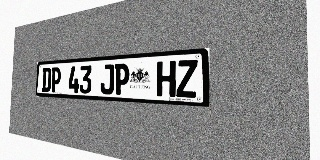3: (79, 65, 92, 94)
4: (68, 66, 80, 93)
D: (42, 68, 51, 92)
H: (156, 61, 176, 97)
J: (100, 64, 114, 95)
P: (114, 63, 130, 95), (51, 67, 61, 92)
Z: (176, 59, 198, 98)
